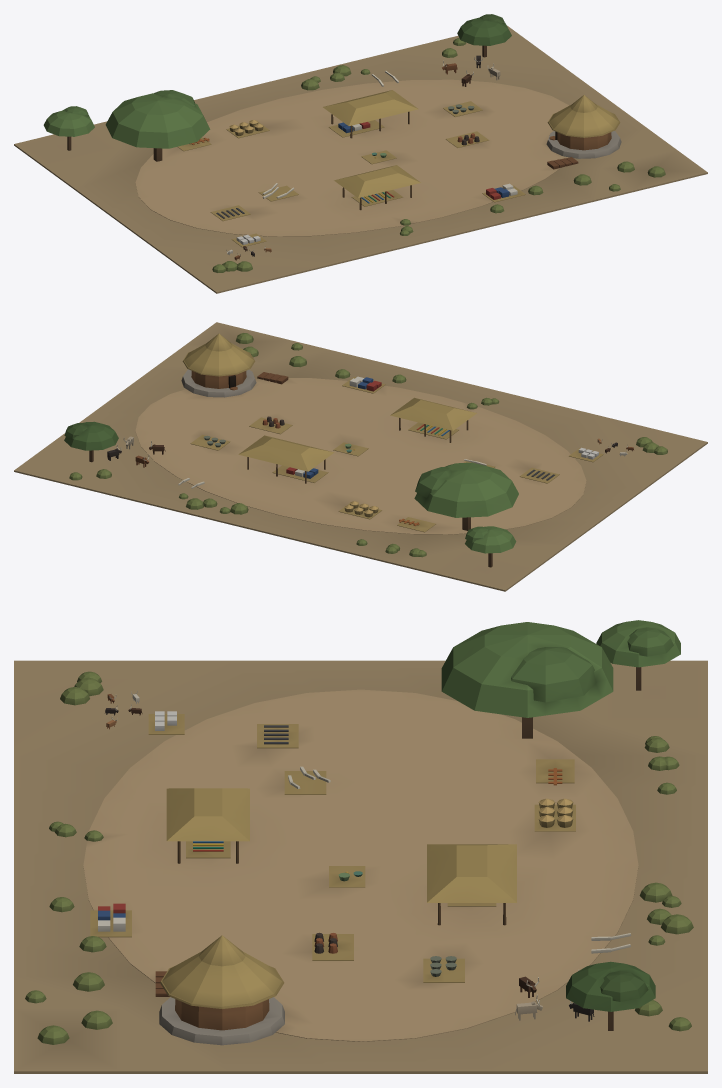
File: trade-ground.glb
The picture shows the model from 3 angles, top to bottom: view 1: azimuth 30°, elevation 25°; view 2: azimuth 150°, elevation 25°; view 3: azimuth 270°, elevation 25°; orthographic projection. The views are drawn at different scales.
Visible parts, largest first — view 1: p0_ground, p1_shelters, p2_goods; view 2: p0_ground, p1_shelters, p2_goods; view 3: p0_ground, p1_shelters, p2_goods.
Part boxes in pixels (x1=…): p0_ground: x1=14, y1=25, x2=707, y2=293; p1_shelters: x1=105, y1=90, x2=621, y2=210; p2_goods: x1=43, y1=14, x2=665, y2=272; p0_ground: x1=14, y1=322, x2=707, y2=591; p1_shelters: x1=181, y1=333, x2=518, y2=530; p2_goods: x1=64, y1=333, x2=667, y2=567; p0_ground: x1=14, y1=660, x2=707, y2=1073; p1_shelters: x1=159, y1=622, x2=613, y2=1045; p2_goods: x1=25, y1=620, x2=693, y2=1044.
Size of the model in its own units: 70 by 8.32 by 50.
